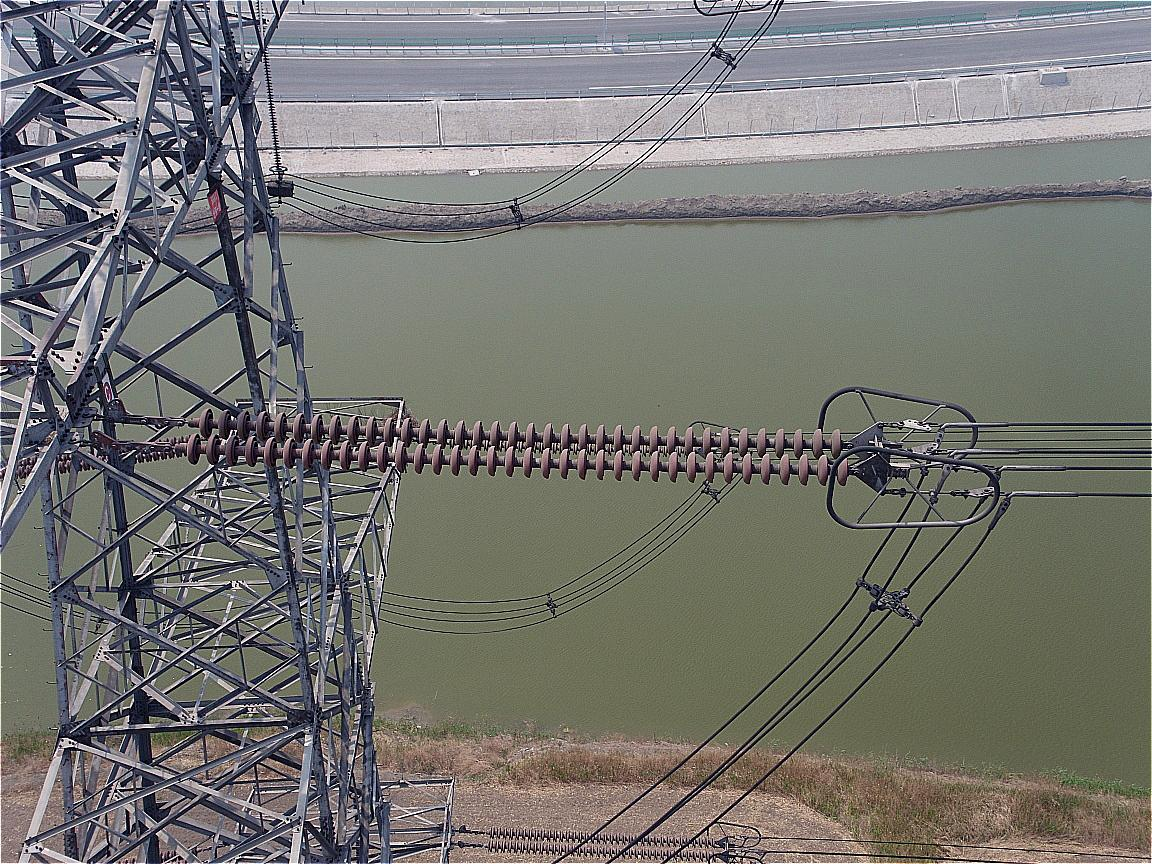insultor1: (186, 410, 851, 486)
insultor2: (486, 826, 720, 863)
